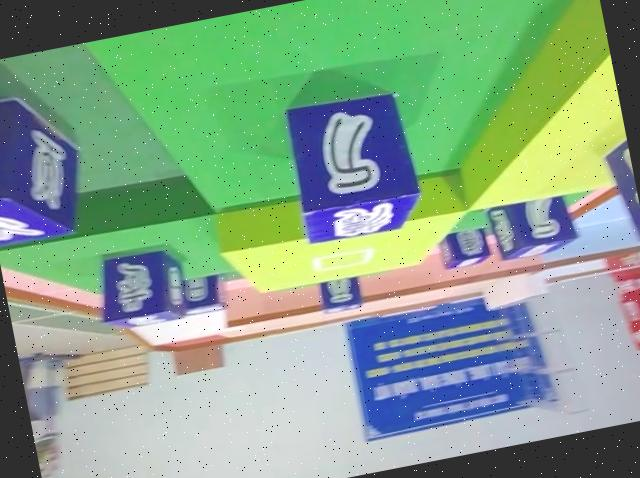R2 Fake Blue: (282, 83, 427, 246), (0, 78, 94, 245), (90, 241, 191, 331), (483, 191, 578, 264), (596, 110, 640, 242), (434, 226, 491, 272), (177, 273, 230, 317), (311, 273, 362, 315)
